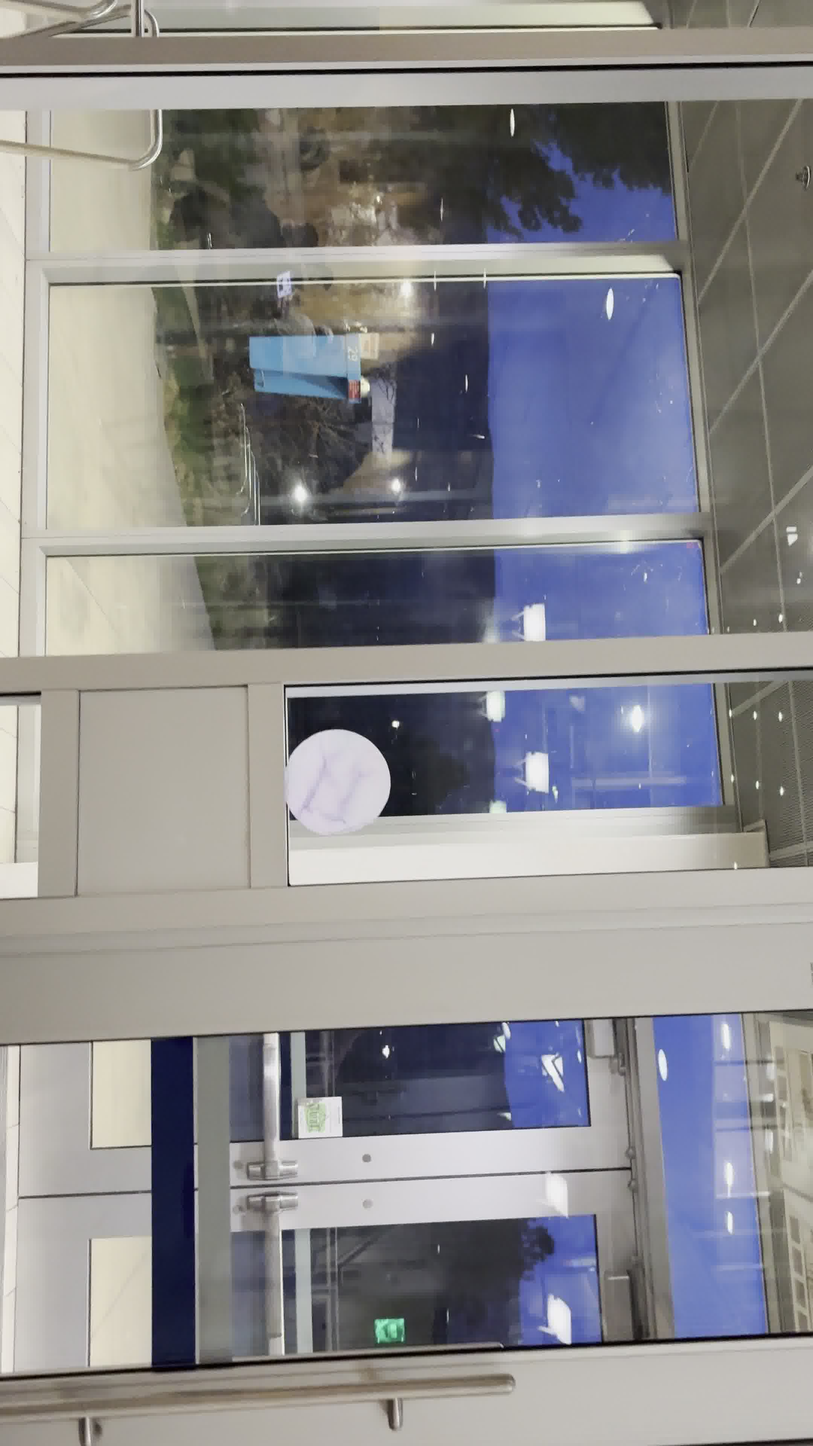Target: (282, 729, 393, 838)
